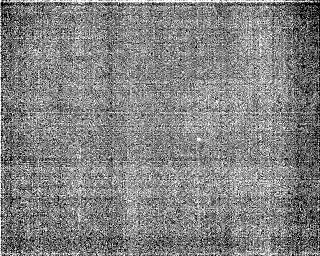AIRPLANE: (195, 134, 205, 146)
